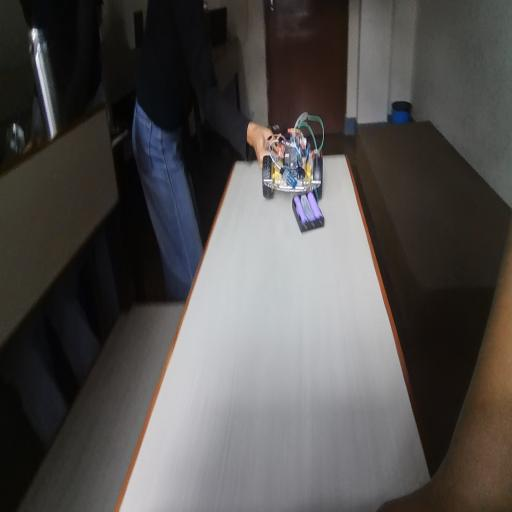car: (263, 113, 332, 214)
